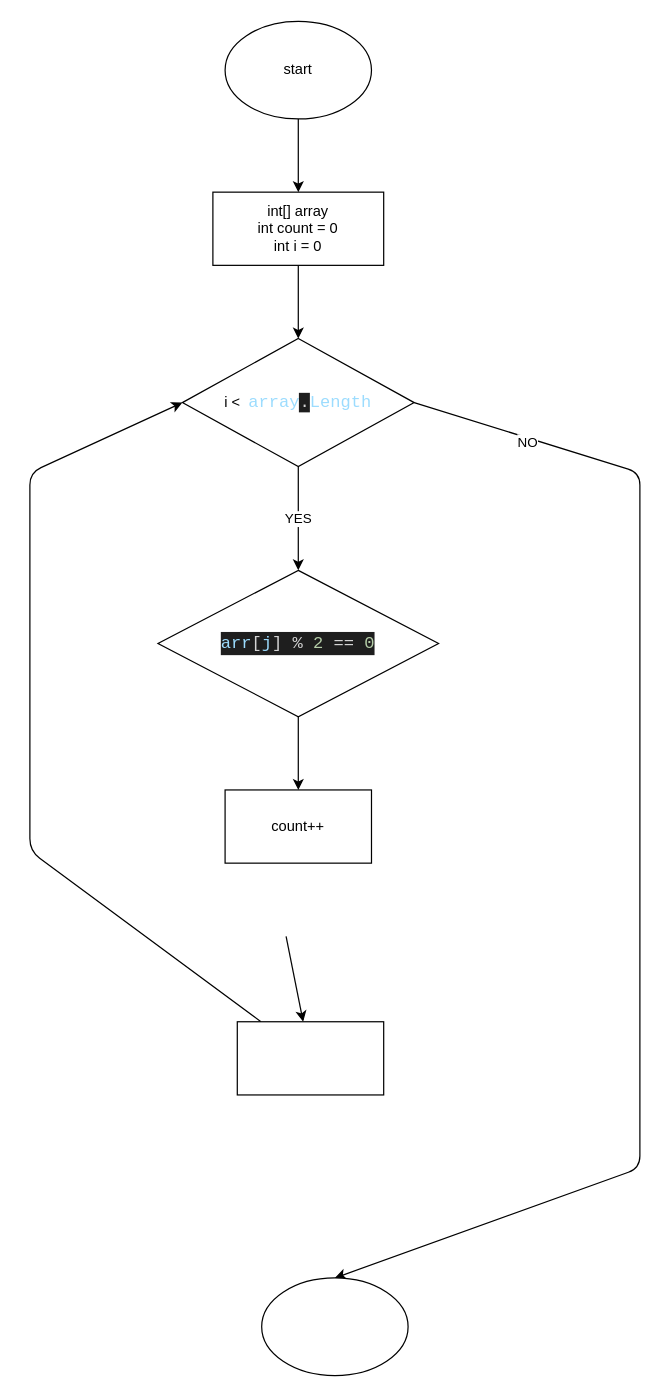
Some shapes in this 671 by 1397 pixel diagram are drawn without their labels. The shapes that lost their labels are listed below. From the top down, each one's centre as x and y in pixels, then its label:
point (310, 1058): i++
point (334, 1326): END
